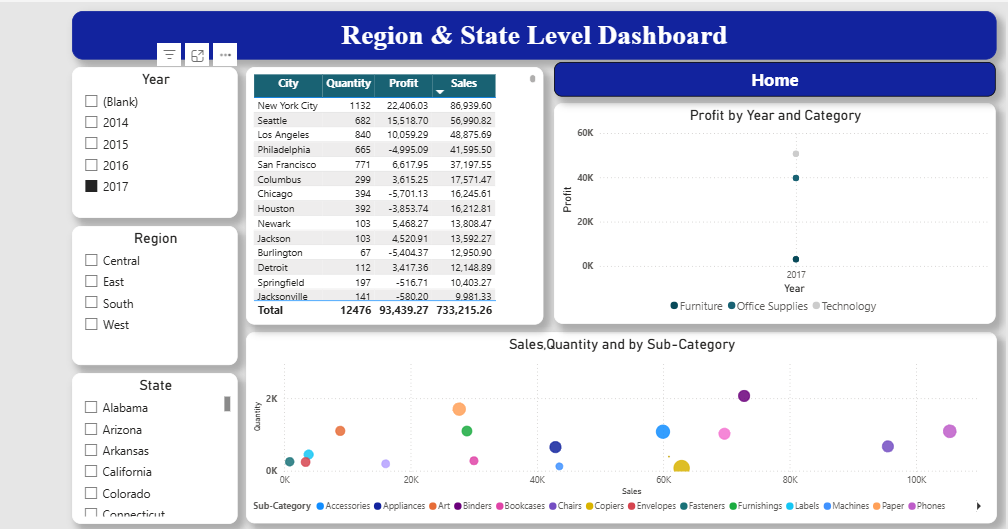

This screenshot's page, from the dashboard's own definition file:
{"tool":"powerbi","page":{"name":"Region","canvas":[1280,720],"ordinal":1},"visuals":[{"type":"textbox","box":[11.8,11.8,1256.5,65.5],"z":0},{"type":"slicer","title":"Year","fields":{"Values":["Orders.Year"]},"box":[11.7,87.8,225.4,204.9],"z":1000},{"type":"slicer","title":"Region","fields":{"Values":["Orders.Region"]},"box":[11.7,304.4,225.4,188.8],"z":2000},{"type":"slicer","title":"State","fields":{"Values":["Orders.State"]},"box":[11.7,503.4,225.4,204.9],"z":3000},{"type":"scatterChart","title":"Sales,Quantity and by Sub-Category","fields":{"X":["Sum(Orders.Sales)"],"Y":["Sum(Orders.Quantity)"],"Series":["Orders.Sub-Category"],"Size":["Sum(Orders.Profit)"]},"box":[248.8,447.8,1020,260.5],"z":4000},{"type":"tableEx","fields":{"Values":["Orders.City","Sum(Orders.Quantity)","Sum(Orders.Profit)","Sum(Orders.Sales)"]},"box":[248.8,87.8,403.9,349.8],"z":5000},{"type":"lineChart","fields":{"Category":["Orders.Year"],"Y":["Sum(Orders.Profit)"],"Series":["Orders.Category"]},"box":[667.3,137.6,600,300],"z":6000},{"type":"actionButton","box":[667.3,82,600,46.8],"z":7000}]}

Visuals, with their boxes in screenshot pixels (x1, y1, x2, y2):
textbox: 79 9 992 56
"Year" slicer: 79 64 243 213
"Region" slicer: 79 221 243 358
"State" slicer: 79 366 243 514
"Sales,Quantity and by Sub-Category" scatterChart: 252 325 992 514
tableEx - Orders.City x Sum(Orders.Quantity): 252 64 545 318
lineChart - Orders.Year x Sum(Orders.Profit): 556 100 991 318
actionButton: 556 60 991 94
